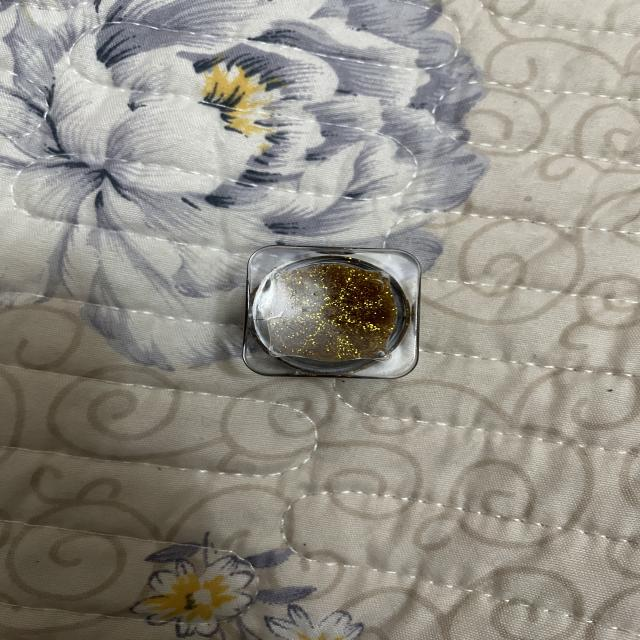eye shade: (220, 231, 441, 399)
